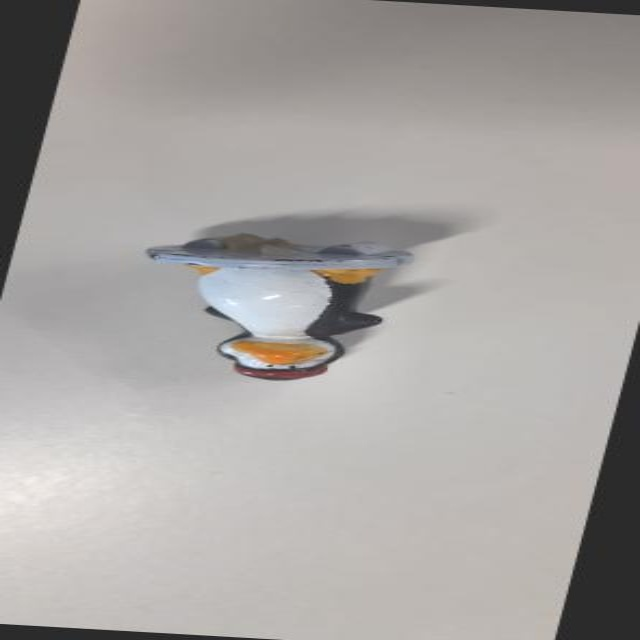Penguin: (126, 230, 421, 394)
